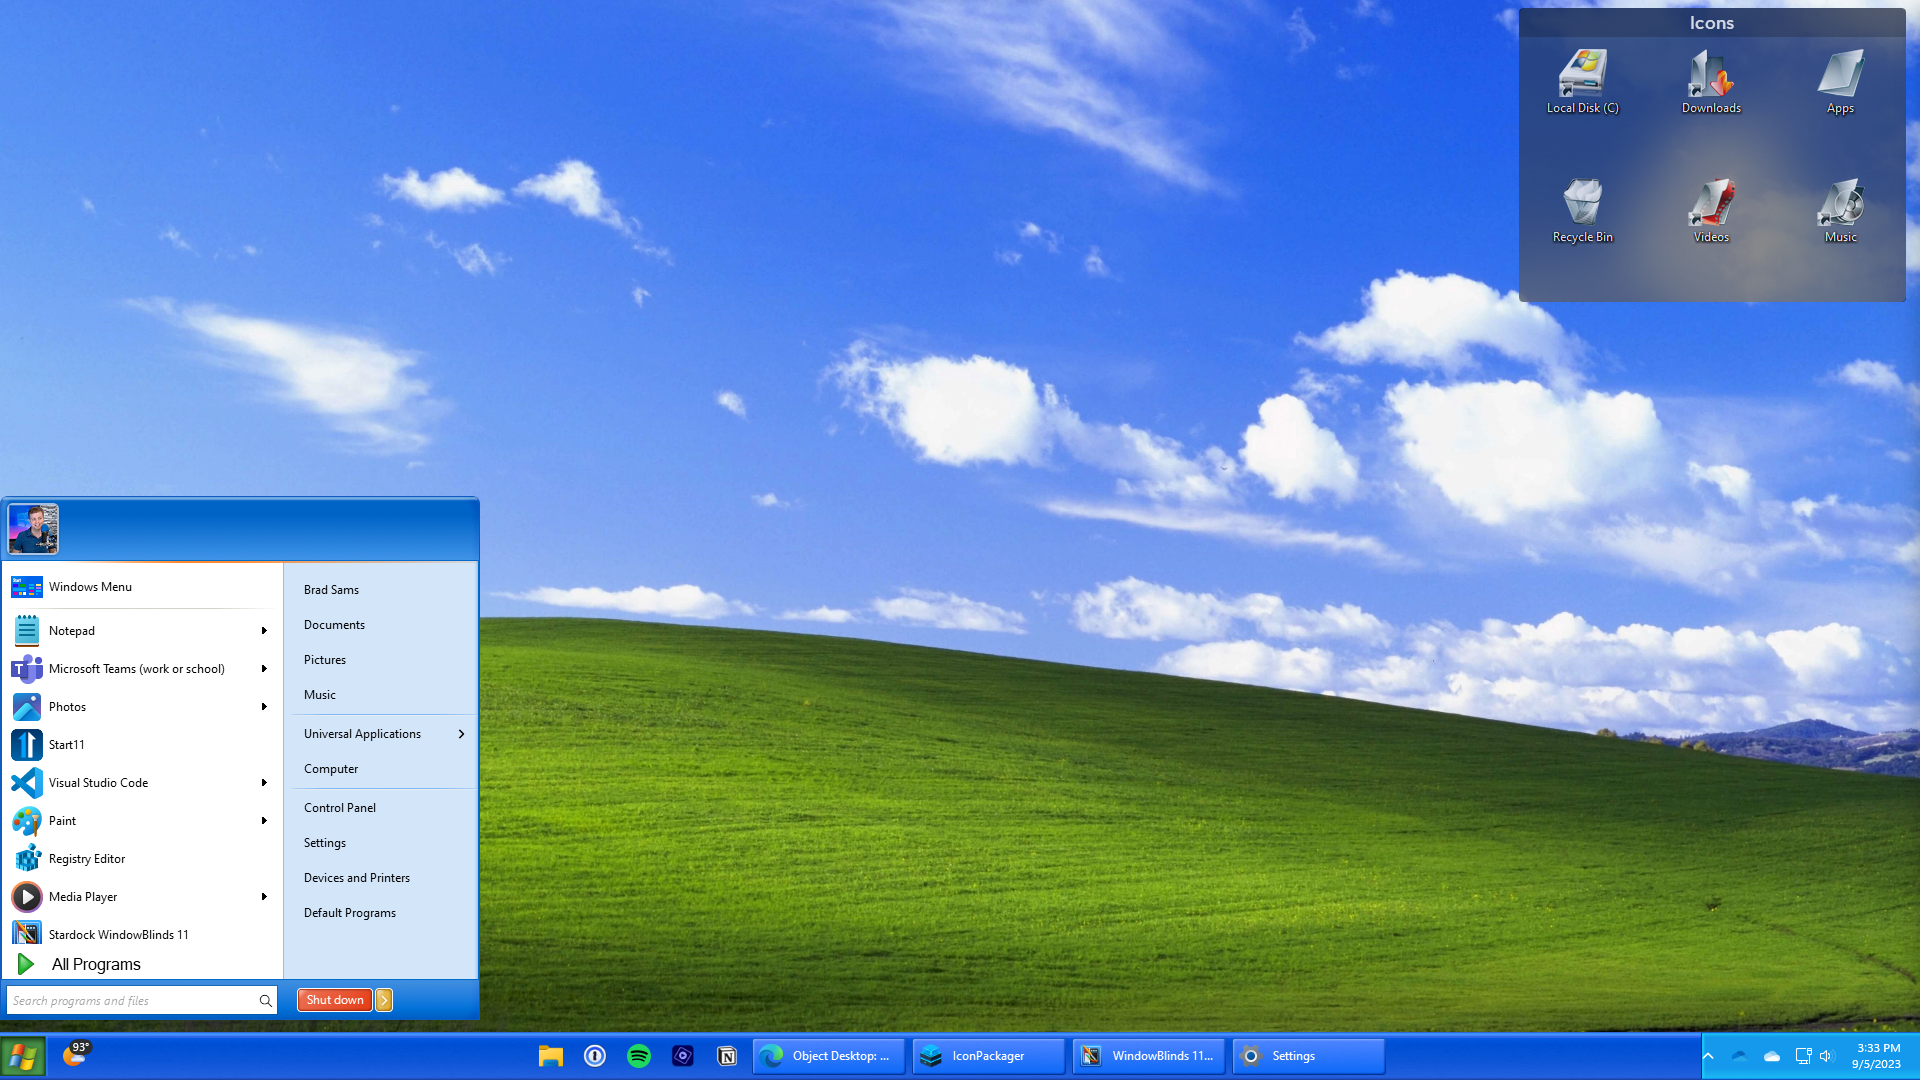search_box: (5, 982, 284, 1015)
start_bar: (1, 1033, 47, 1073)
